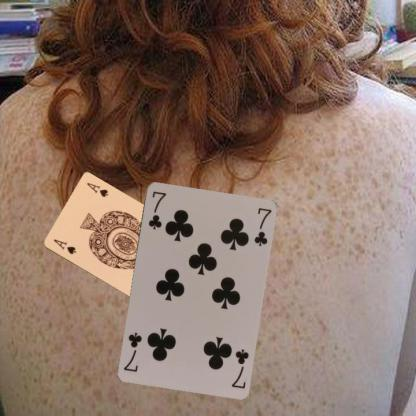7c: (228, 346, 250, 390), (146, 188, 168, 230)
As: (51, 236, 77, 256)
